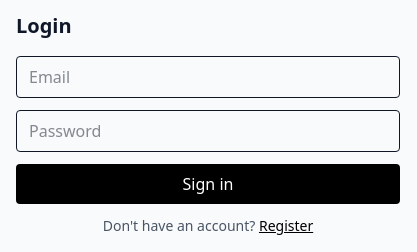
Test: Login › should show loading state when submitting
Type "test@example.com" into the field with placeholder "Email".
click(208, 77); type("test@example.com")  # box [16, 56, 400, 98]
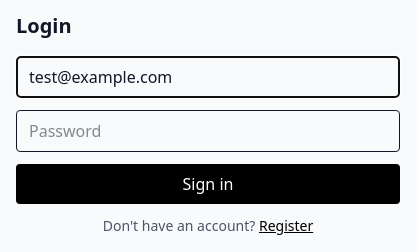
Type "password123" into the password field with placeholder "Password".
click(208, 131); type("password123")  # box [16, 110, 400, 152]
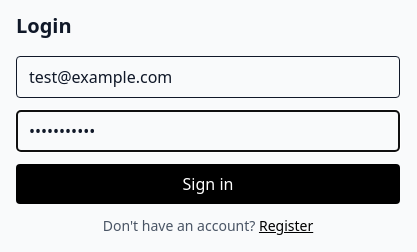
Click the button "Sign in".
click(208, 184)  # box [16, 164, 400, 204]
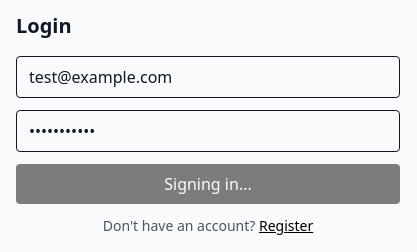
expect the button "Signing in..." is disabled: met, box [16, 164, 400, 204]
